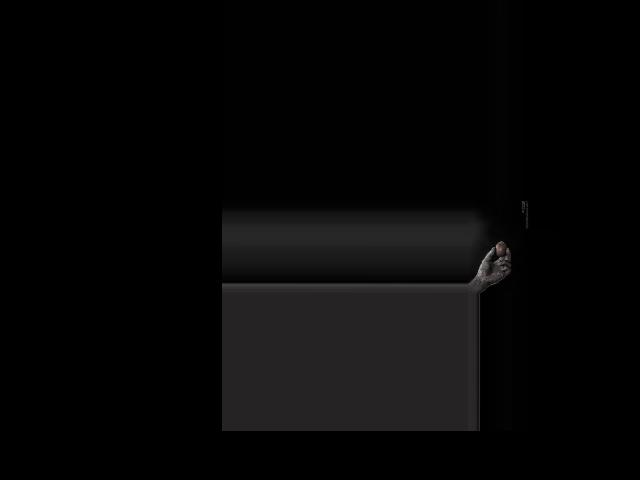egg: (495, 242, 506, 257)
